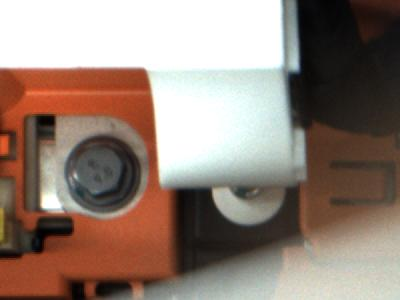nut_b: (66, 136, 138, 210)
